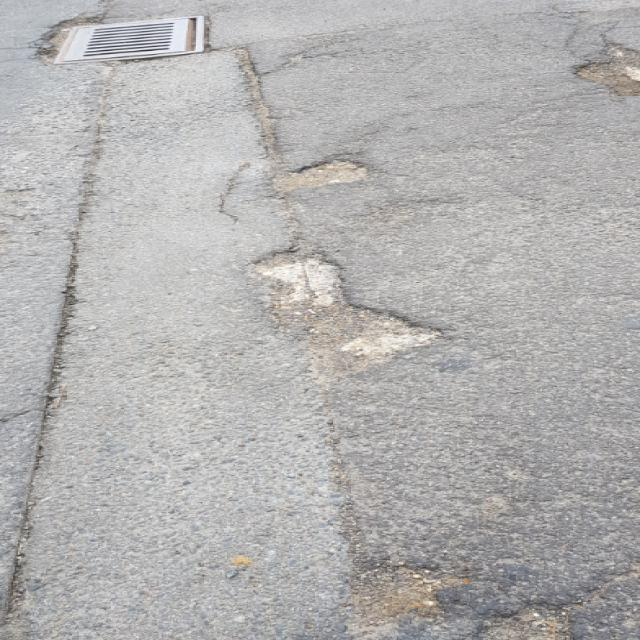Pothole: (242, 242, 454, 376), (332, 555, 467, 625), (256, 146, 382, 200), (563, 34, 640, 100), (482, 598, 593, 640)
